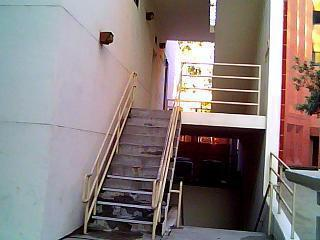Escaleras: (80, 104, 181, 232), (174, 218, 273, 239)
